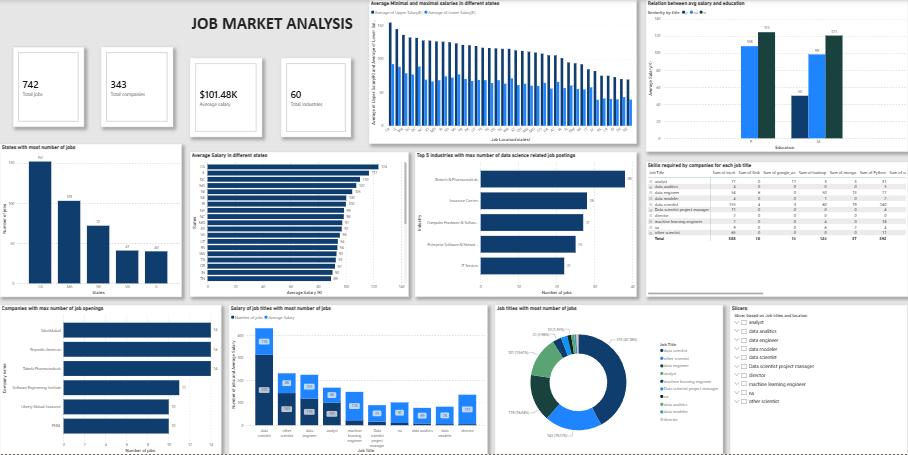

The page's visual inventory and layout, read from the dashboard file:
{"tool":"powerbi","page":{"name":"Page 1","canvas":[3000,1500],"ordinal":0},"visuals":[{"type":"clusteredColumnChart","title":"States with most number of jobs","fields":{"Category":["job_market.Job_Location"],"Y":["CountNonNull(job_market.job_title_sim)"]},"box":[0,474.5,600,504.6],"z":0},{"type":"clusteredColumnChart","title":"Average Minimal and maximal salaries in different states","fields":{"Category":["job_market.Job_Location"],"Y":["Avg(job_market.Upper_Salary)","Avg(job_market.Lower_Salary)"]},"box":[1219.8,0,883.5,474.7],"z":1000},{"type":"clusteredBarChart","title":"Average Salary in different states","fields":{"Category":["job_market.Job_Location"],"Y":["Avg(job_market.Avg_SalaryK)"]},"box":[626.4,501.1,722,478],"z":2000},{"type":"clusteredBarChart","title":"Top 5 industries with max number of data science related job postings","fields":{"Category":["job_market.Industry"],"Y":["CountNonNull(job_market.job_title_sim)"]},"box":[1371.4,501.1,731.9,478],"z":3000},{"type":"clusteredBarChart","title":"Companies with max number of job openings","fields":{"Y":["CountNonNull(job_market.job_title_sim)"],"Category":["job_market.company_txt"]},"box":[0,1006.7,730.5,494.6],"z":4000},{"type":"donutChart","title":"Job titles with most number of jobs","fields":{"Category":["job_market.job_title_sim"],"Y":["CountNonNull(job_market.job_title_sim)"]},"box":[1634.3,1006.7,753.1,492.1],"z":5000},{"type":"lineStackedColumnComboChart","title":"Salary of job titles with most number of jobs","fields":{"Category":["job_market.job_title_sim"],"Y":["CountNonNull(job_market.job_title_sim)","Avg(job_market.Avg_SalaryK)"]},"box":[755.6,1006.7,853.6,494.6],"z":6000},{"type":"pivotTable","title":"Skills required by companies for each job title","fields":{"Rows":["job_market.job_title_sim","job_market.company_txt"],"Values":["Sum(job_market.excel)","Sum(job_market.flink)","Sum(job_market.google_an)","Sum(job_market.hadoop)","Sum(job_market.mongo)","Sum(job_market.Python)","Sum(job_market.scikit)","Sum(job_market.sas)","Sum(job_market.spark)","Sum(job_market.sql_)","Sum(job_market.tableau)","Sum(job_market.tensor)"]},"box":[2134.8,533.7,865.2,444.7],"z":7000},{"type":"clusteredColumnChart","title":"Relation between avg salary and education","fields":{"Category":["job_market.Degree"],"Y":["Avg(job_market.Avg_SalaryK)"],"Series":["job_market.seniority_by_title"]},"box":[2134.8,0,865.2,501.3],"z":8000},{"type":"slicer","title":"Slicers","fields":{"Values":["job_market.job_title_sim","job_market.Job_Title","job_market.Location"]},"box":[2412.6,1006.7,587.4,494.6],"z":9000},{"type":"cardVisual","fields":{"Data":["job_market.Total jobs"]},"box":[43,155.3,234.6,264.3],"z":10000},{"type":"cardVisual","fields":{"Data":["job_market.Average salary"]},"box":[627.8,191.6,237.9,261],"z":11000},{"type":"textbox","box":[627.8,36.3,555.1,118.9],"z":12000},{"type":"cardVisual","fields":{"Data":["job_market.Total Industries"]},"box":[928.4,191.6,231.3,261],"z":13000},{"type":"cardVisual","fields":{"Data":["job_market.Total companies"]},"box":[333.7,155.3,237.9,264.3],"z":14000}]}

Visuals, with their boxes in screenshot pixels (x1, y1, x2, y2), scaled from the page's 3000x1500 canvas onto the 908x455 screenshot:
"States with most number of jobs" clusteredColumnChart: [0, 144, 182, 297]
"Average Minimal and maximal salaries in different states" clusteredColumnChart: [369, 0, 637, 144]
"Average Salary in different states" clusteredBarChart: [190, 152, 408, 297]
"Top 5 industries with max number of data science related job postings" clusteredBarChart: [415, 152, 637, 297]
"Companies with max number of job openings" clusteredBarChart: [0, 305, 221, 454]
"Job titles with most number of jobs" donutChart: [495, 305, 723, 454]
"Salary of job titles with most number of jobs" lineStackedColumnComboChart: [229, 305, 487, 454]
"Skills required by companies for each job title" pivotTable: [646, 162, 907, 297]
"Relation between avg salary and education" clusteredColumnChart: [646, 0, 907, 152]
"Slicers" slicer: [730, 305, 907, 454]
cardVisual - job_market.Total jobs: [13, 47, 84, 127]
cardVisual - job_market.Average salary: [190, 58, 262, 137]
textbox: [190, 11, 358, 47]
cardVisual - job_market.Total Industries: [281, 58, 351, 137]
cardVisual - job_market.Total companies: [101, 47, 173, 127]
